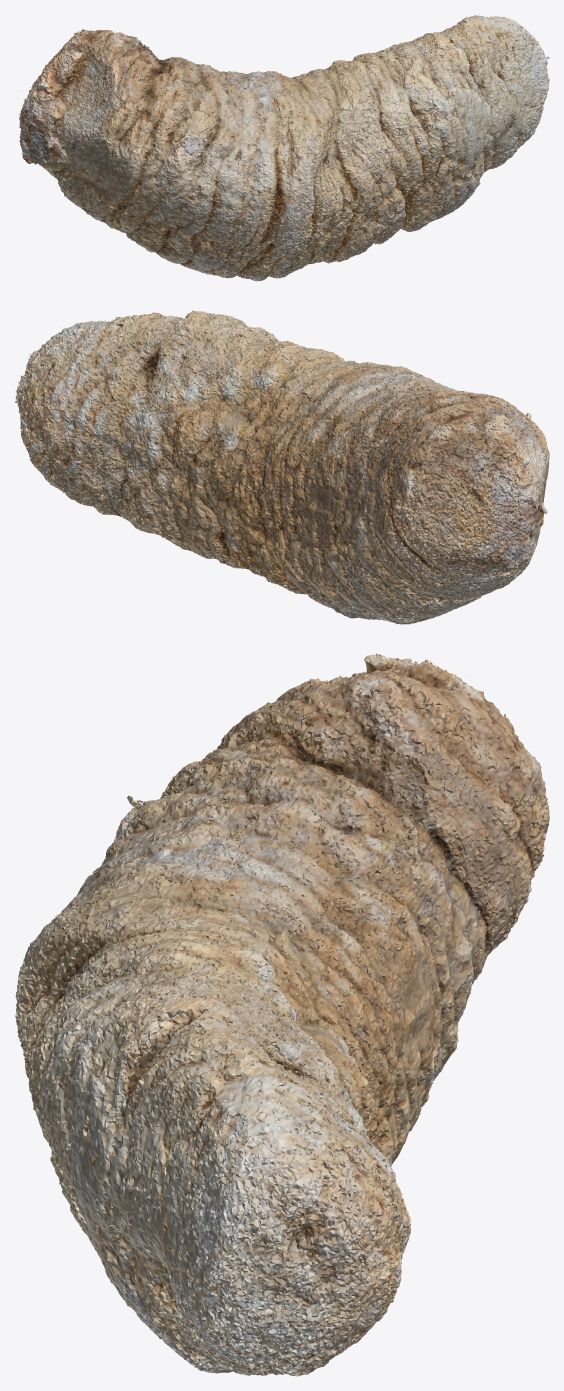
File: MZUR3D-036.glb
3 renders of one model, top to bottom at view 1: azimuth 30°, elevation 25°; view 2: azimuth 150°, elevation 25°; view 3: azimuth 270°, elevation 25°, orthographic. The views are drawn at different scales.
Visible parts, largest first — view 1: MZUR3D-036; view 2: MZUR3D-036; view 3: MZUR3D-036.
Part boxes in pixels (x1,y1,x2,y2): MZUR3D-036: [17, 14, 549, 281]; MZUR3D-036: [15, 310, 549, 624]; MZUR3D-036: [14, 653, 549, 1376].
Bounding box in the file's own units: 0.266 × 0.1256 × 0.1323.
1 material, 1 textured.
